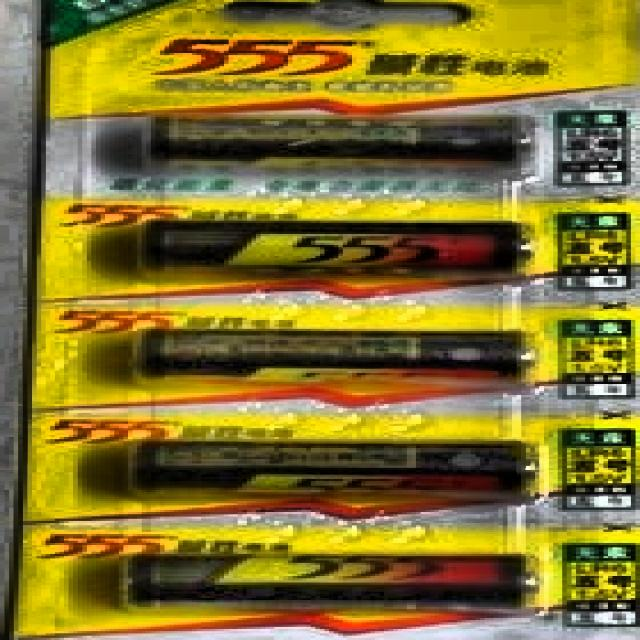Non-Valuable Waste - Batteries: (128, 555, 521, 607), (142, 332, 524, 382), (137, 442, 516, 490), (148, 224, 509, 269), (153, 118, 512, 160)
